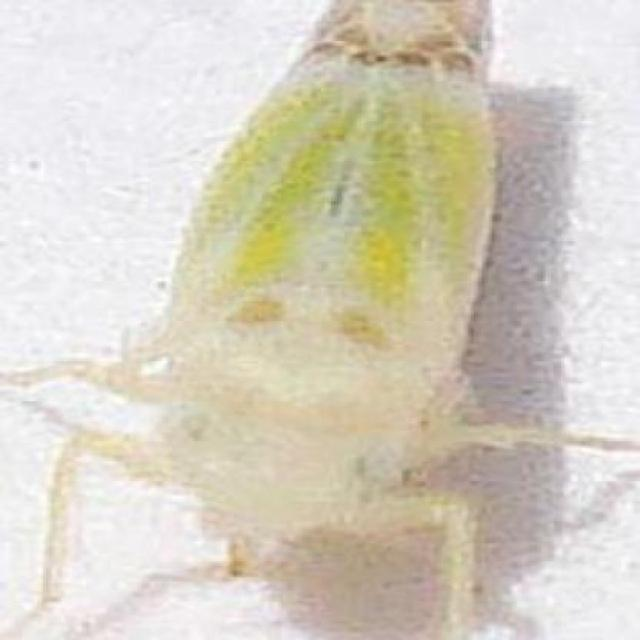green-leafhopper: (74, 0, 552, 594)
